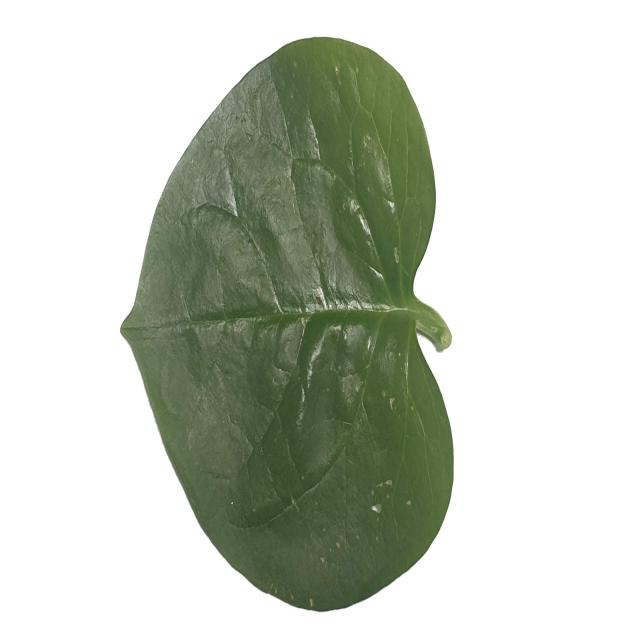Medicinal-Basale: (120, 35, 454, 613)
